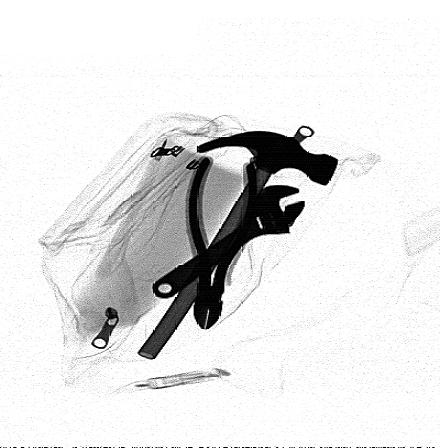Hammer: (138, 128, 342, 361)
Pliers: (182, 150, 259, 332)
Wrench: (153, 182, 308, 300)
